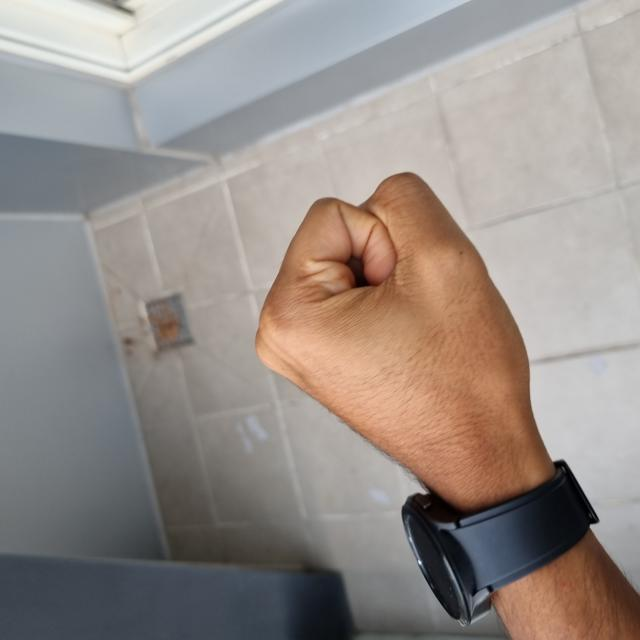Rock: (136, 258, 466, 539)
